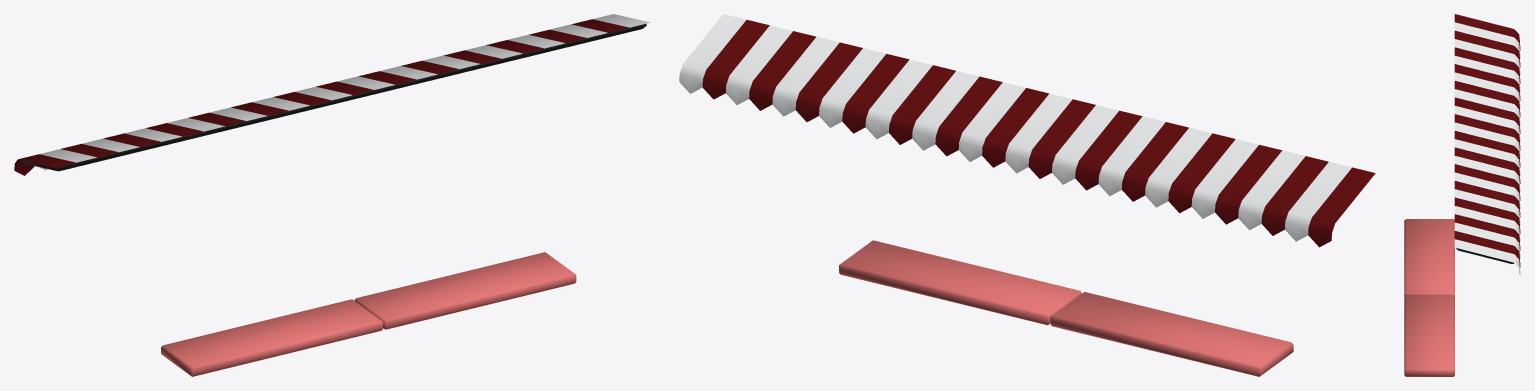
File: M_Dogchuangtaiwupin01.FBX
3 renders of one model, left to right at view 1: azimuth 30°, elevation 25°; view 2: azimuth 150°, elevation 25°; view 3: azimuth 270°, elevation 25°, orthographic. The views are drawn at different scales.
Visible parts, largest first — view 1: M_Dogchuangtaiwupin01_01, M_Dogchuangtaiwupin01_02, M_Dogchuangtaiwupin01_03; view 2: M_Dogchuangtaiwupin01_02, M_Dogchuangtaiwupin01_01; view 3: M_Dogchuangtaiwupin01_02, M_Dogchuangtaiwupin01_01, M_Dogchuangtaiwupin01_03.
Part boxes in pixels (box(x1,y1,x2,y2)): M_Dogchuangtaiwupin01_01: box(161, 252, 576, 376); M_Dogchuangtaiwupin01_02: box(14, 14, 649, 175); M_Dogchuangtaiwupin01_03: box(21, 23, 646, 171); M_Dogchuangtaiwupin01_02: box(679, 14, 1375, 247); M_Dogchuangtaiwupin01_01: box(839, 240, 1293, 376); M_Dogchuangtaiwupin01_02: box(1454, 14, 1520, 275); M_Dogchuangtaiwupin01_01: box(1404, 219, 1454, 376); M_Dogchuangtaiwupin01_03: box(1456, 248, 1514, 263).
Size of the model in its own units: 9.9 by 3.38 by 2.08.
